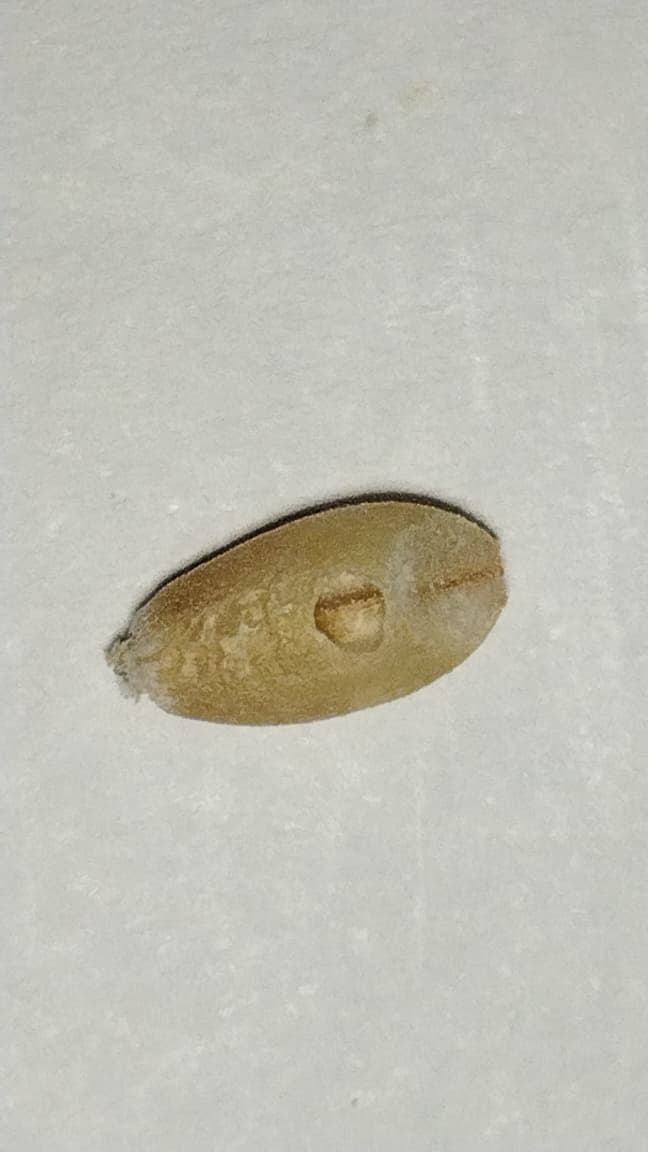damage: (108, 491, 506, 725)
insectdamage: (392, 499, 506, 653), (309, 554, 392, 674)
